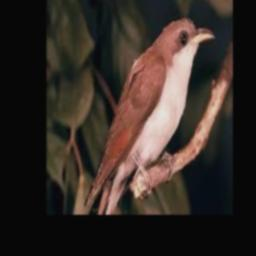Cuckoo: (84, 17, 215, 207)
